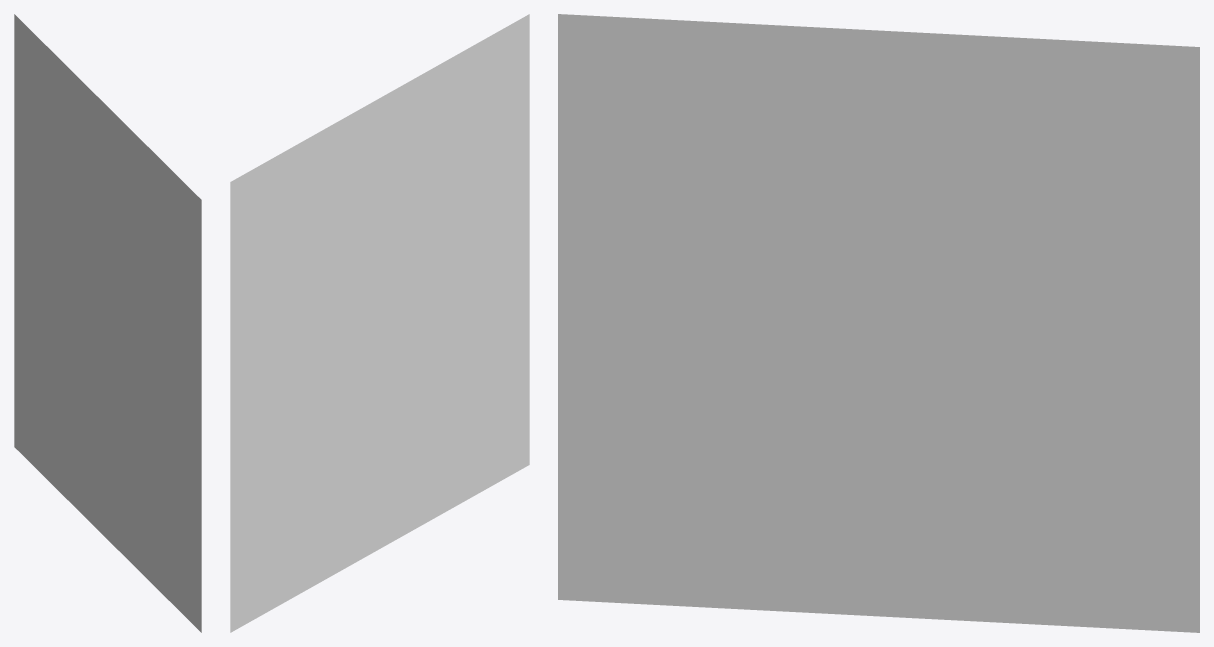
Rendered from fbx_web.fbx.
3 renders of one model, left to right at view 1: azimuth 30°, elevation 25°; view 2: azimuth 150°, elevation 25°; view 3: azimuth 270°, elevation 25°, orthographic. The views are drawn at different scales.
Visible parts, largest first — view 1: pPlane1; view 2: pPlane1; view 3: pPlane1.
Boxes of the visible parts, <box> form: pPlane1: <box>14,14,201,632</box>; pPlane1: <box>230,14,529,632</box>; pPlane1: <box>558,14,1199,632</box>.
Bounding box in the file's own units: 0.1007 × 0.8314 × 0.8253.
Materials: 1 (1 with a texture image).
